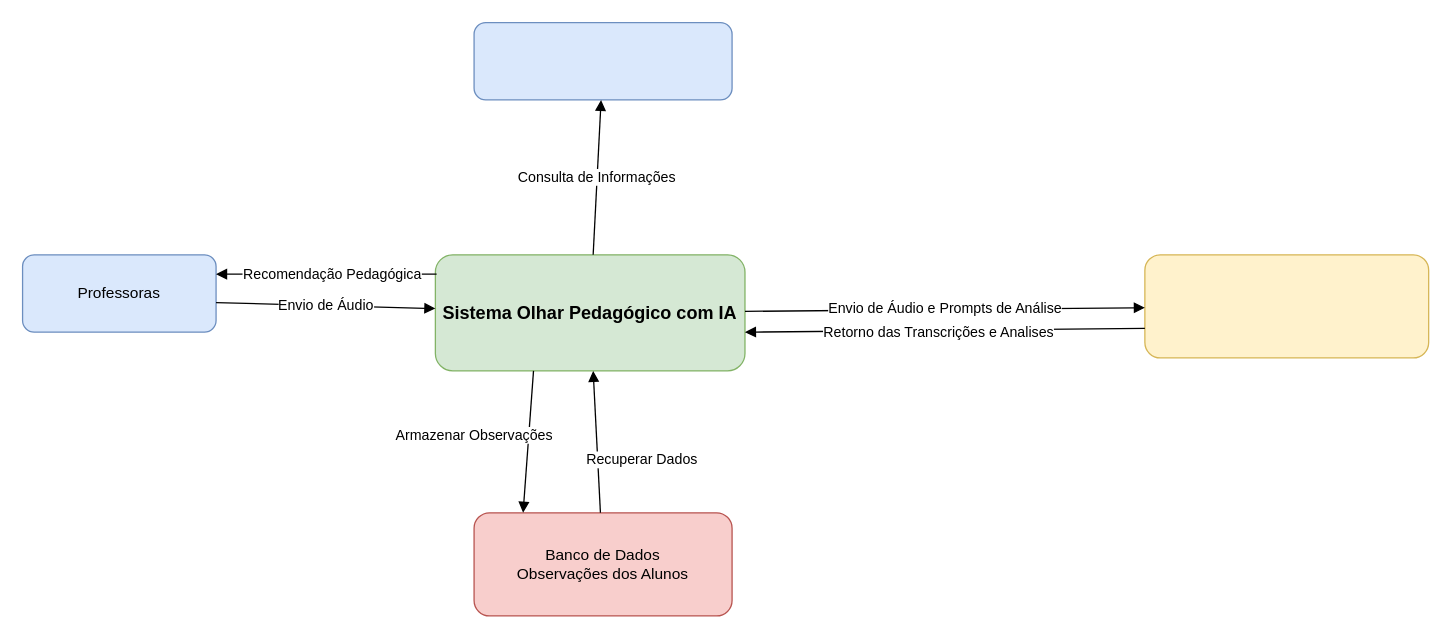
Some shapes in this 1451 by 639 pixel diagram are drawn without their labels. Each missing label, with the centre of its shape:
Coordenação Pedagógica: the point at 602,60
Serviço de IA (Transcrição e Resumo): the point at 1286,305
